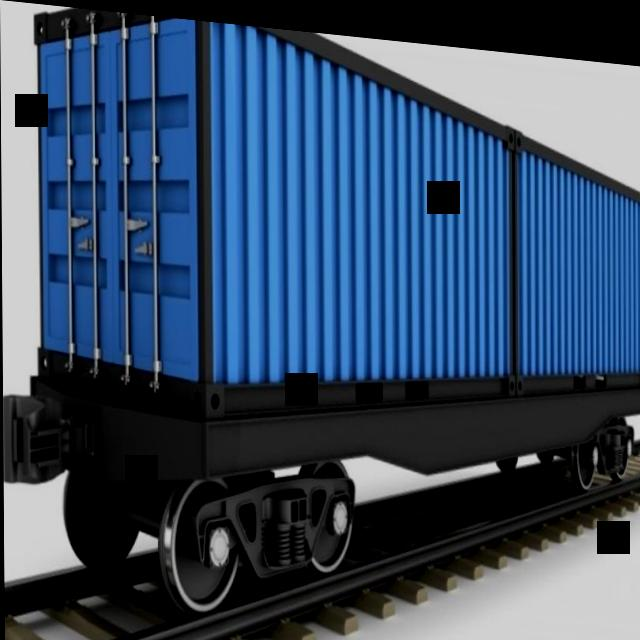container: (28, 2, 518, 445), (511, 109, 640, 414)
flatcar: (2, 312, 640, 640)
